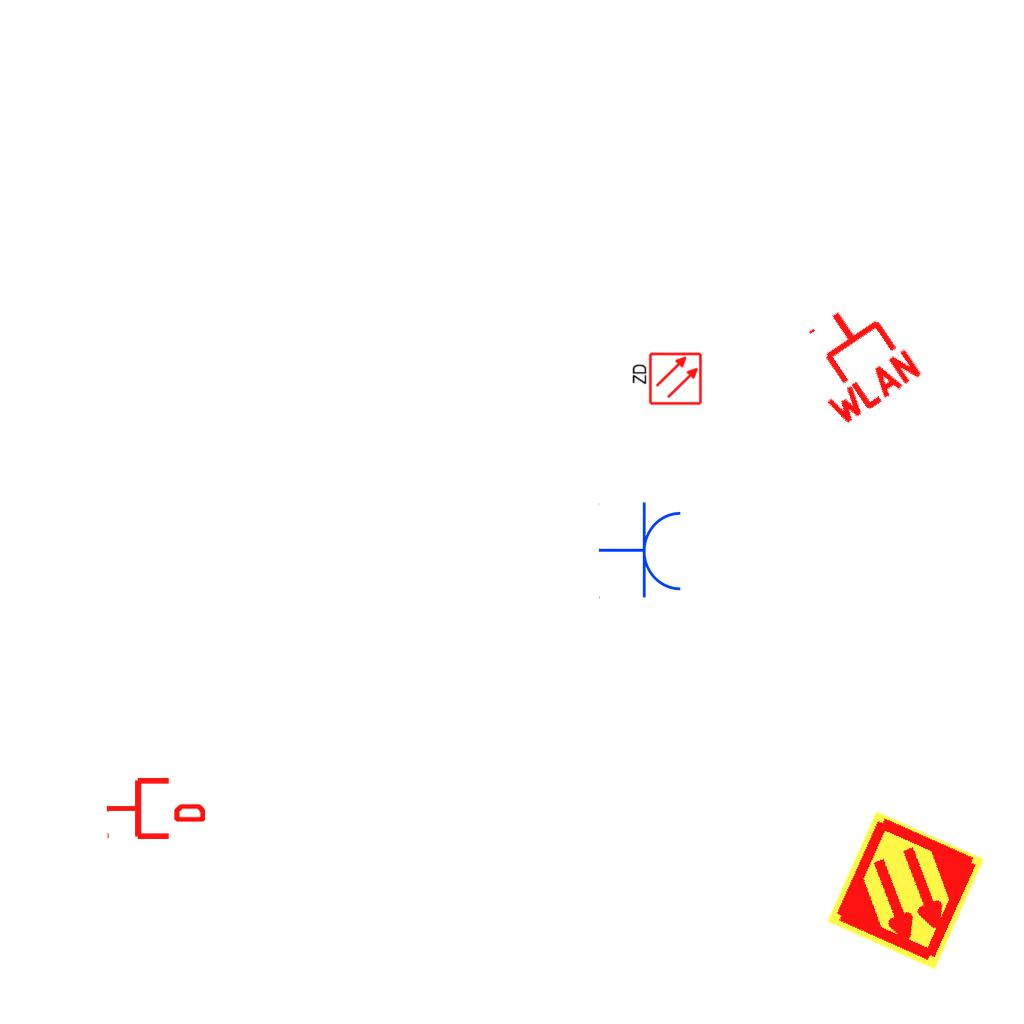ASR_Ansaugrauchmelder: (822, 807, 989, 974)
Datenanschluss_einfach: (105, 774, 205, 843)
Schukosteckdose_einfach: (598, 501, 685, 601)
WLAN: (782, 286, 927, 432)
ZD_Melder_in_Zwischendecke_mit_Revisionsoeffnung_mind_40_x_40_cm: (629, 351, 703, 408)
